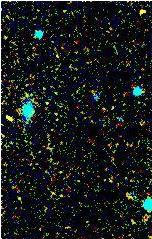star: (124, 0, 152, 28)
